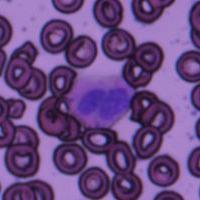N: (65, 74, 135, 128)
